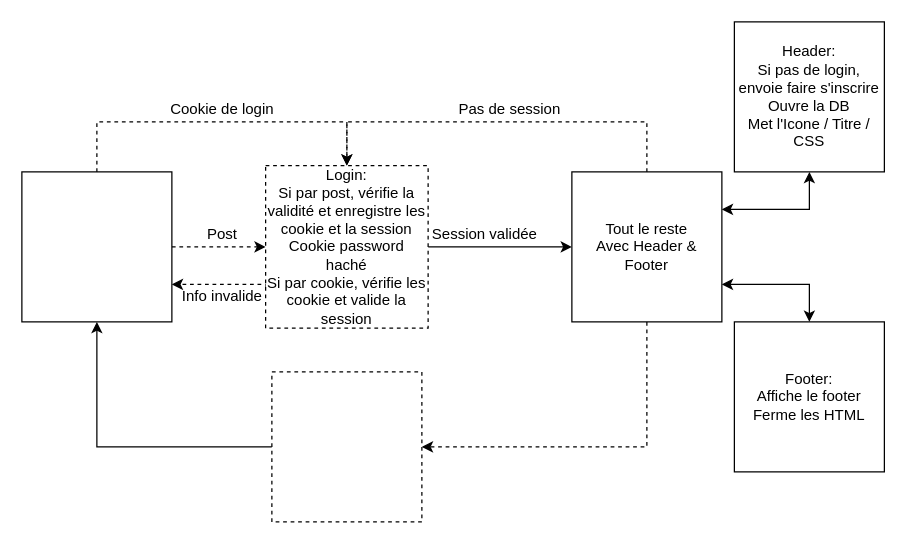
The diagram is 906 pixels wide and 544 high, and some of its shapes have lost their labels. The shapes that lost their labels are listed below. From the top down, each one's centre as x and y in pixels, then its label:
At point 96,246: "Index: Vérifie les cookies Demande un loggin".
At point 346,446: "Déconexion: Supprime la session Supprime les cookies".
